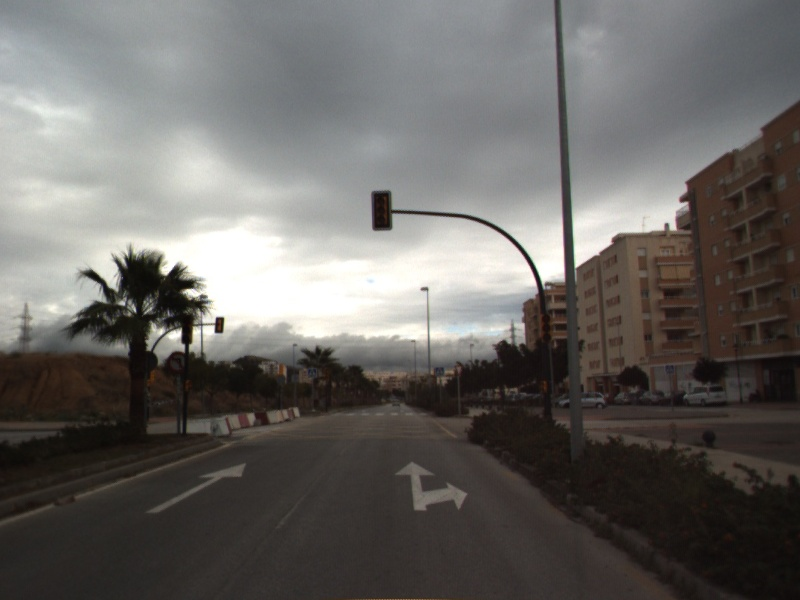STRAIGHT: (143, 461, 248, 515)
STRAIGHT_RIGHT: (393, 460, 470, 513)
